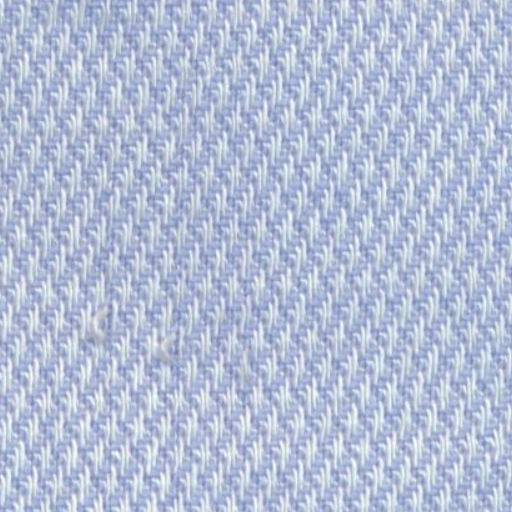DuanSha: (72, 290, 192, 382)
